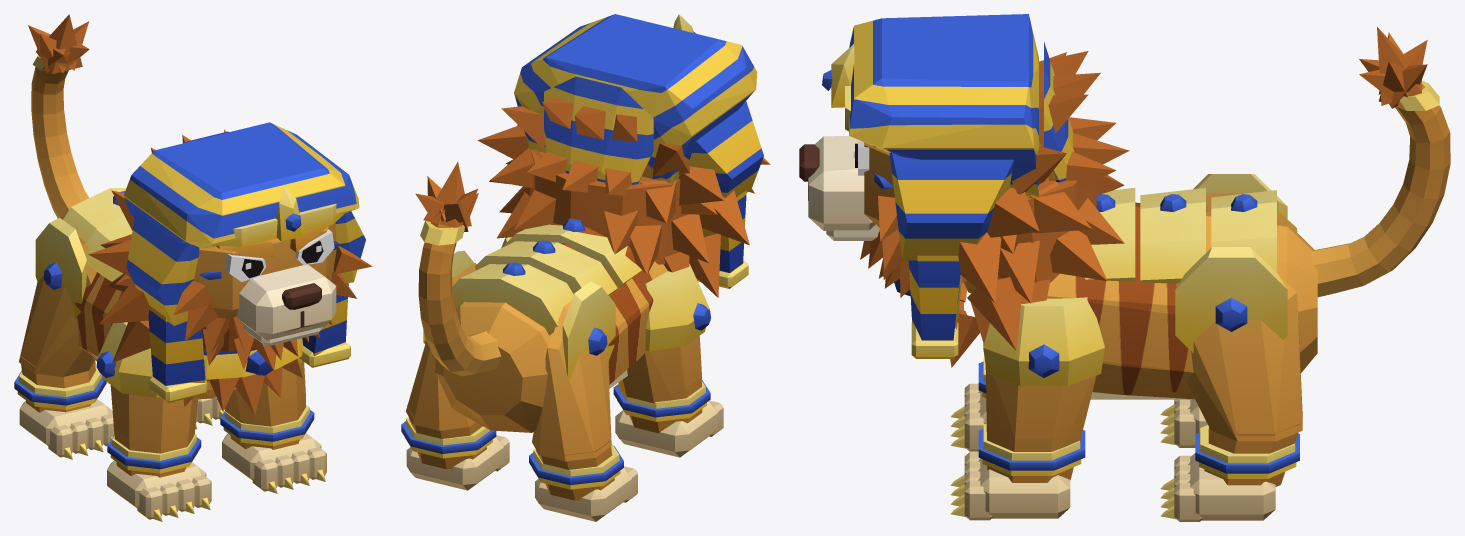
Rendered from SphinxStriker.glb.
3 views of the same model, side by side, from view 1: azimuth 30°, elevation 25°; view 2: azimuth 150°, elevation 25°; view 3: azimuth 270°, elevation 25° (orthographic). The views are drawn at different scales.
Parts seen in each view (by area): view 1: SphinxStriker; view 2: SphinxStriker; view 3: SphinxStriker.
Boxes of the visible parts, x1,y1,x2,y2 form: SphinxStriker: (14,14,372,521); SphinxStriker: (401,14,770,521); SphinxStriker: (799,14,1450,521).
Size of the model in its own units: 0.7046 by 0.9627 by 1.29.
Materials: 1 (1 with a texture image).
